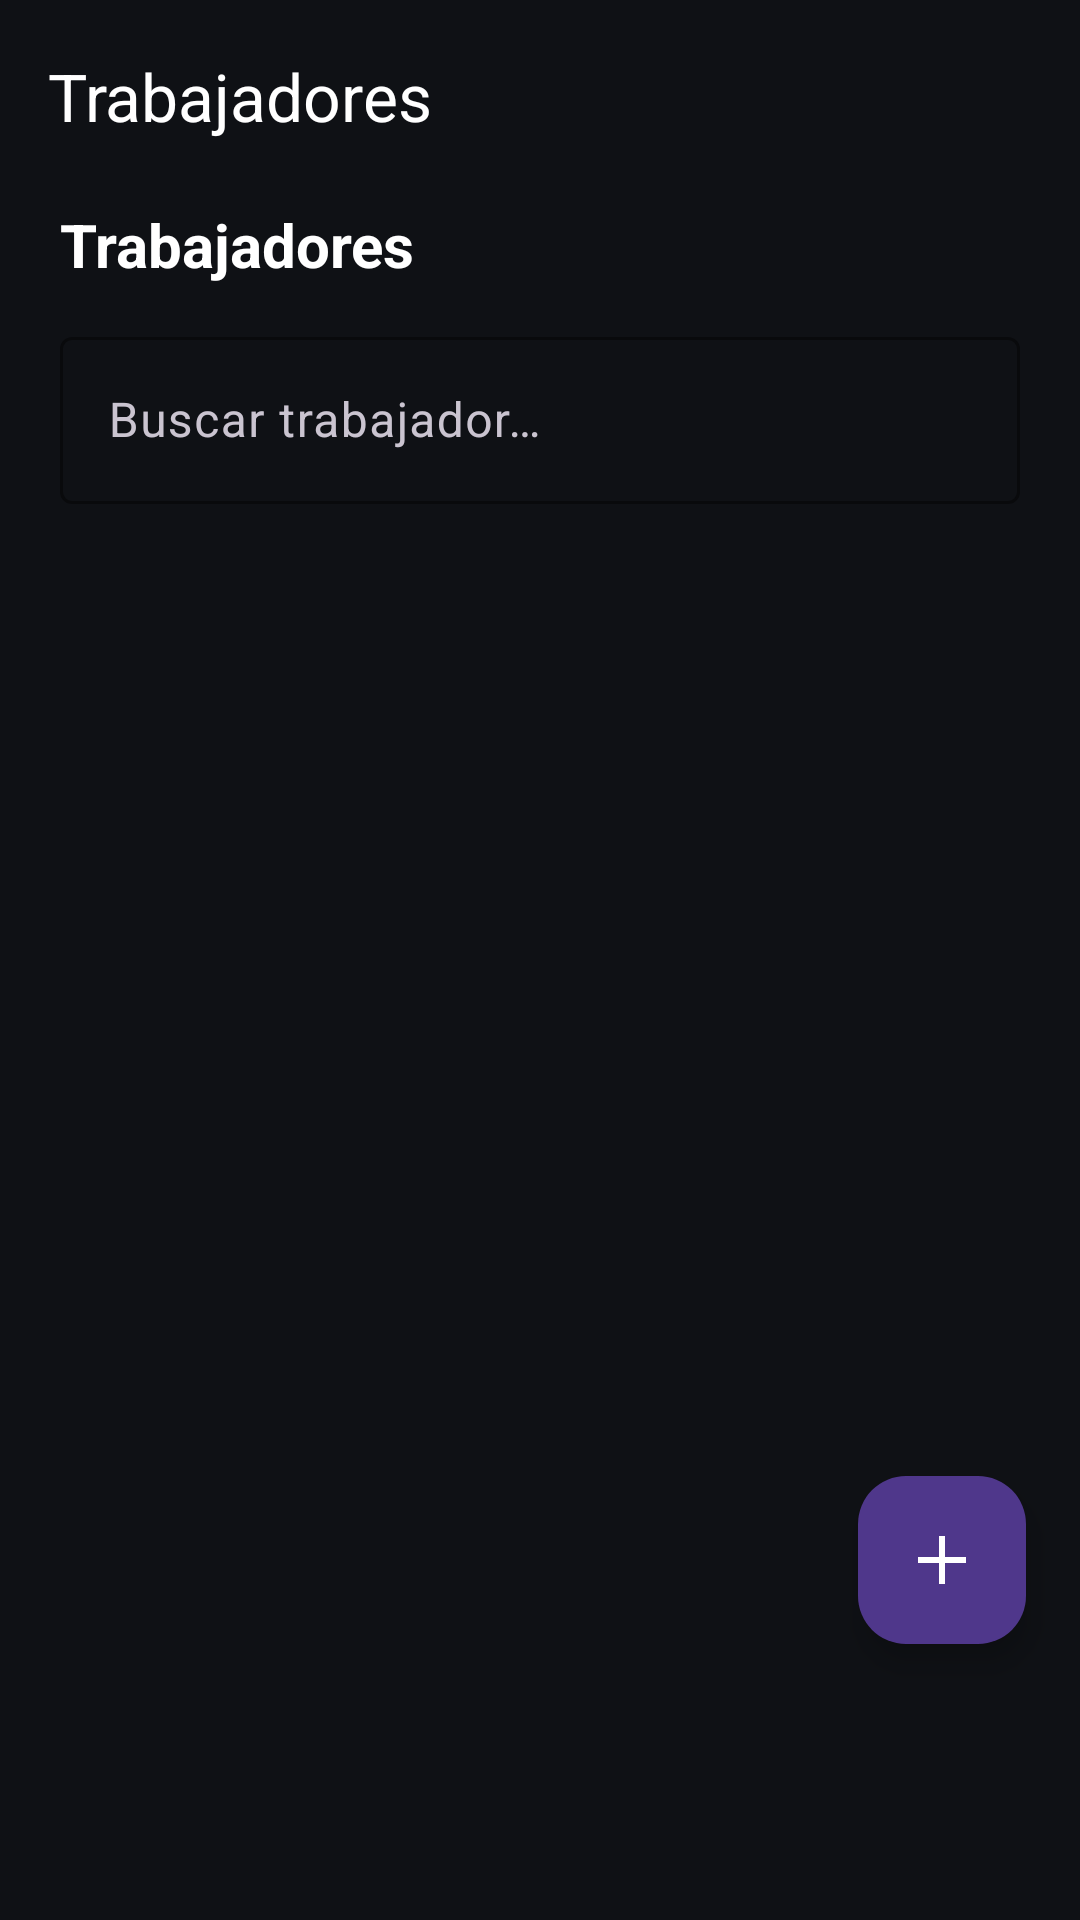

Screen size 1080 × 1920. Icon name, then its box in pixels as (x1, y1, x2, y2):
Registrar nuevo: (858, 1476, 1026, 1644)
